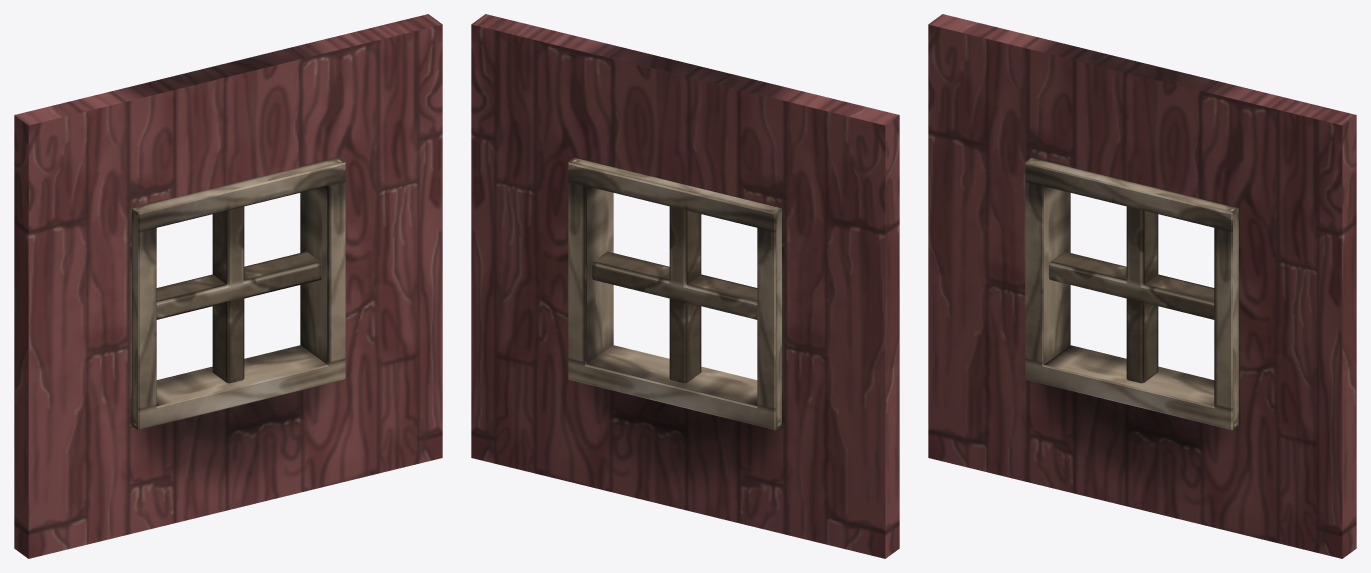
File: barn_window.fbx
3 renders of one model, left to right at view 1: azimuth 30°, elevation 25°; view 2: azimuth 150°, elevation 25°; view 3: azimuth 330°, elevation 25°, orthographic.
Parts seen in each view (by area): view 1: barn_window; view 2: barn_window; view 3: barn_window.
Part boxes in pixels (x1=…): barn_window: x1=14, y1=14, x2=442, y2=558; barn_window: x1=471, y1=14, x2=899, y2=558; barn_window: x1=928, y1=14, x2=1356, y2=558.
Bounding box in the file's own units: 5 × 5 × 0.5908.
